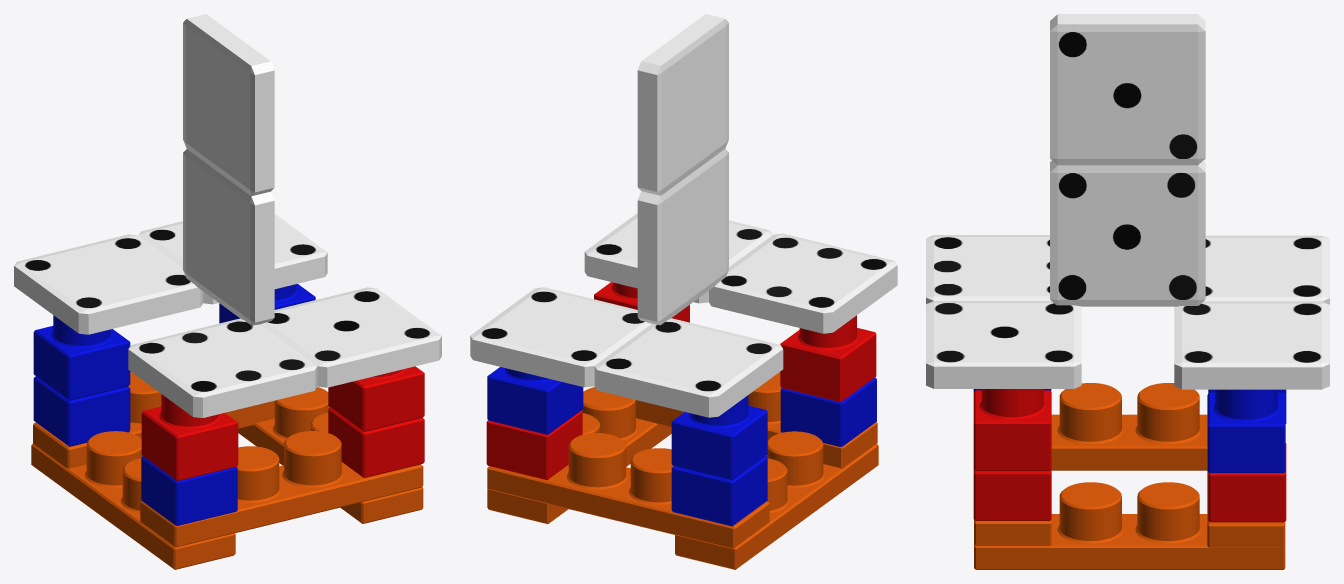
3 renders of one model, left to right at view 1: azimuth 30°, elevation 25°; view 2: azimuth 150°, elevation 25°; view 3: azimuth 270°, elevation 25°, orthographic. The views are drawn at different scales.
Visible parts, largest first — view 1: Dom.212_low_0.002, Dom.303_low_2.002, Dom.202_low_2, Cube.041, Cube.046, Cube.038, Cube.047, Cube.044, Cube.039, Cube.042, Cube.040, Cube.043; view 2: Dom.212_low_0.002, Dom.202_low_2, Dom.303_low_2.002, Cube.040, Cube.046, Cube.038, Cube.044, Cube.039, Cube.043, Cube.042, Cube.045, Cube.041 (+1 smaller); view 3: Dom.212_low_0.002, Dom.202_low_2, Dom.303_low_2.002, Cube.039, Cube.038, Cube.047, Cube.043, Cube.045, Cube.040, Cube.041.
Boxes of the visible parts, box(x1,y1,x2,y2) form: Dom.212_low_0.002: box(183, 14, 274, 325); Dom.303_low_2.002: box(128, 287, 441, 417); Dom.202_low_2: box(14, 214, 327, 334); Cube.041: box(140, 431, 423, 547); Cube.046: box(33, 315, 130, 446); Cube.038: box(31, 431, 235, 569); Cube.047: box(328, 366, 424, 477); Cube.044: box(141, 394, 238, 481); Cube.039: box(238, 387, 423, 523); Cube.042: box(141, 456, 237, 525); Cube.040: box(33, 371, 274, 468); Cube.043: box(219, 284, 315, 323); Dom.212_low_0.002: box(637, 14, 728, 325); Dom.202_low_2: box(470, 287, 783, 417); Dom.303_low_2.002: box(584, 213, 897, 333); Cube.040: box(487, 433, 769, 548); Cube.046: box(671, 395, 767, 526); Cube.038: box(675, 431, 878, 569); Cube.044: box(780, 315, 876, 402); Cube.039: box(487, 387, 671, 523); Cube.043: box(487, 367, 583, 434); Cube.042: box(780, 377, 876, 446); Cube.045: box(486, 410, 582, 480); Cube.041: box(636, 372, 877, 468); Dom.212_low_0.002: box(1050, 14, 1205, 306); Dom.202_low_2: box(1174, 235, 1329, 389); Dom.303_low_2.002: box(926, 235, 1081, 388); Cube.039: box(974, 482, 1285, 569); Cube.038: box(1051, 383, 1207, 470); Cube.047: box(973, 389, 1051, 520); Cube.043: box(1207, 389, 1285, 473); Cube.045: box(1208, 443, 1286, 522); Cube.040: box(1207, 395, 1285, 547); Cube.041: box(974, 519, 1051, 545).
Bounding box in the file's own units: 4.04 × 6.89 × 5.19.
Materials: 10 (5 with a texture image).
